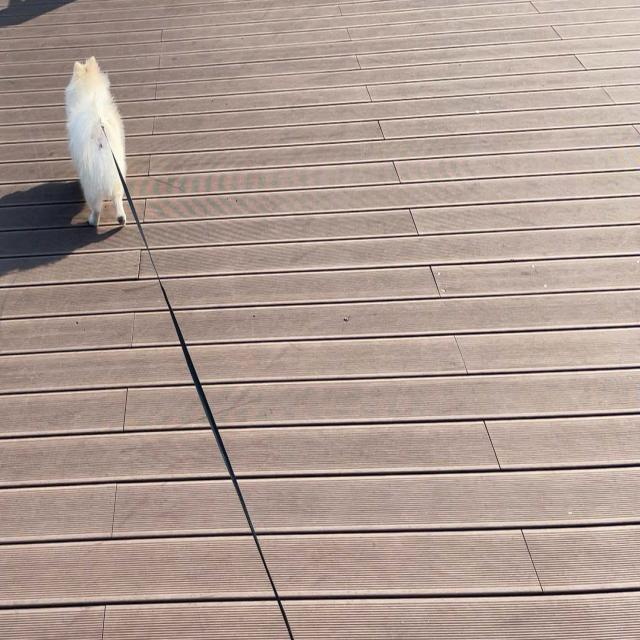Dog: (64, 55, 128, 231)
